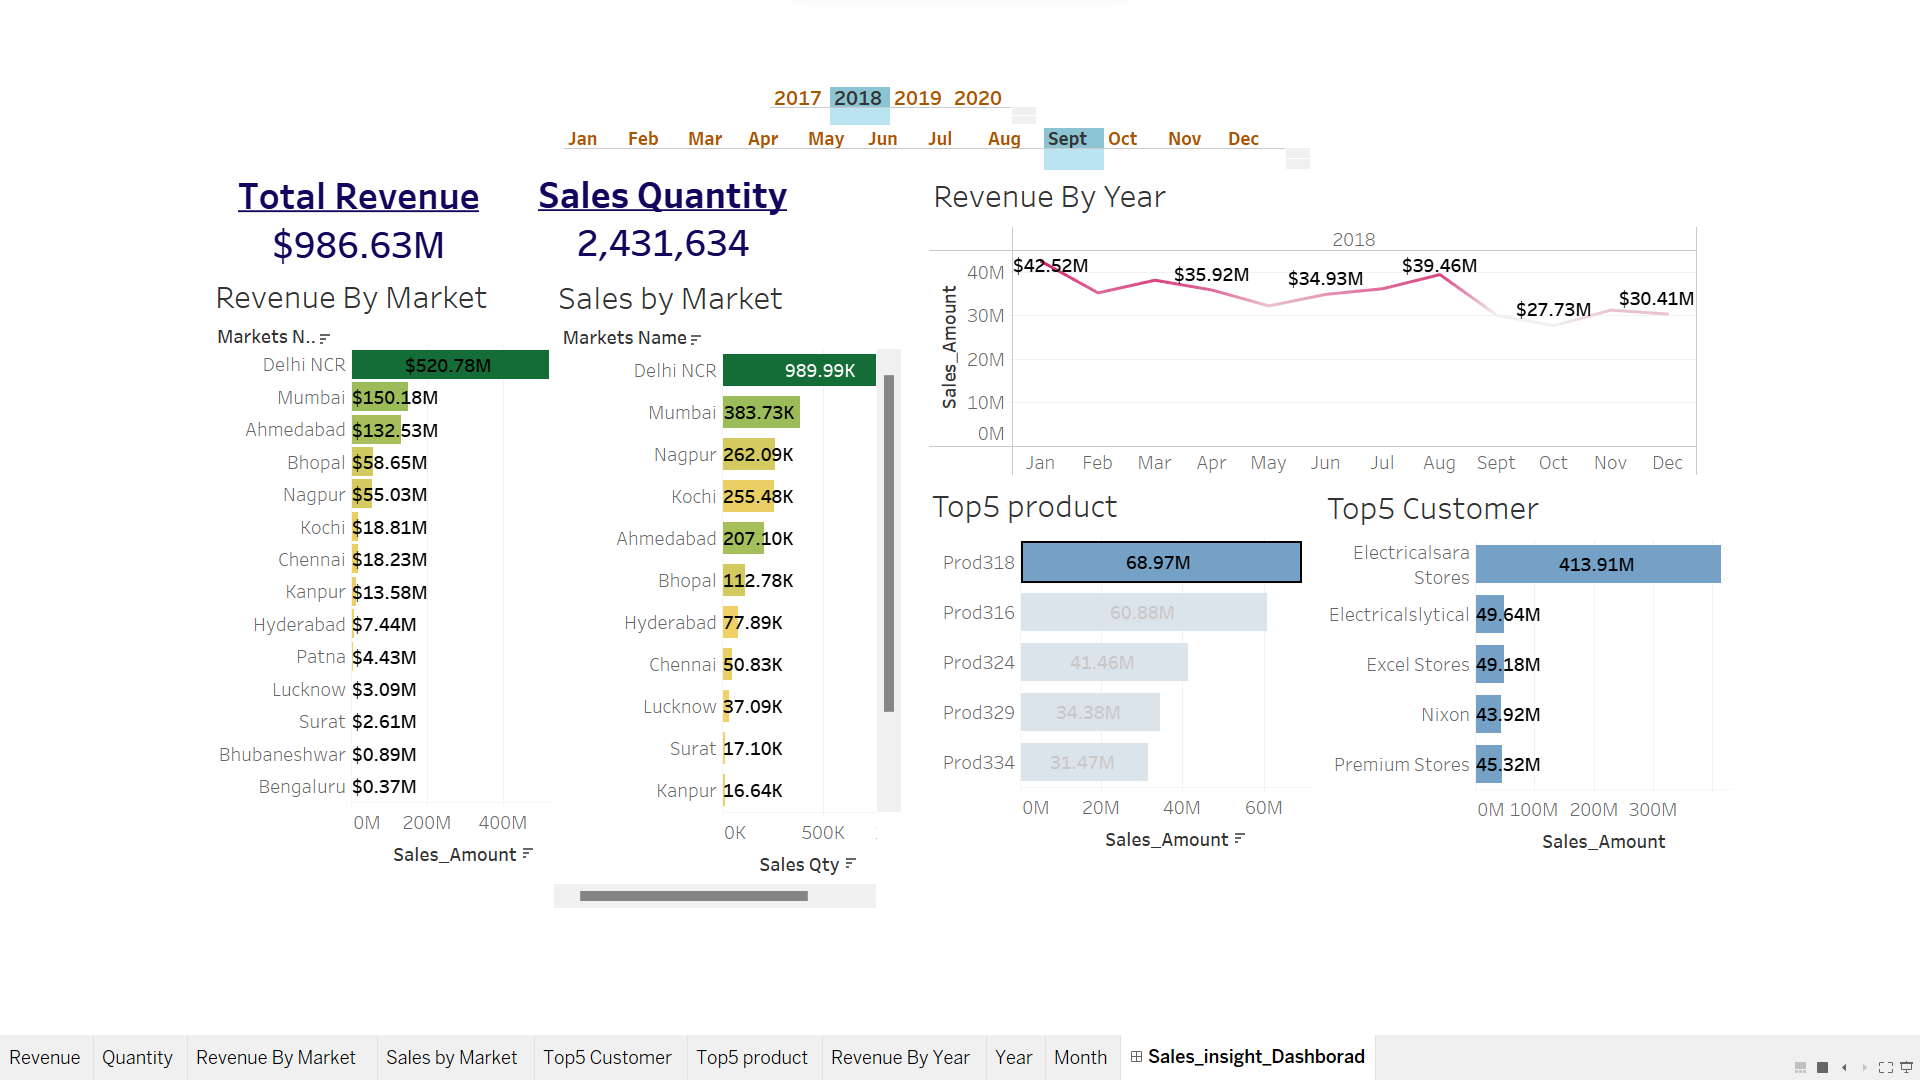

What the dashboard file says about the page in this screenshot:
{"tool":"tableau","page":{"name":"Sales_insight_Dashborad","canvas":[1500,900],"ordinal":0},"visuals":[{"type":"worksheet","title":"Year","mark":"Automatic","cols":["cy_date"],"box":[560,20,527,38]},{"type":"worksheet","title":"Month","mark":"Automatic","cols":["cy_date"],"box":[354,61,762,42]},{"type":"worksheet","title":"Quantity","mark":"Automatic","box":[323,101,272,99]},{"type":"worksheet","title":"Revenue","mark":"Automatic","box":[19,102,270,103]},{"type":"worksheet","title":"Revenue By Year","mark":"Automatic","rows":["Calculation_581527367364583425"],"cols":["cy_date","cy_date"],"box":[719,103,768,306]},{"type":"worksheet","title":"Revenue By Market ","mark":"Bar","rows":["markets_name"],"cols":["Calculation_581527367364583425"],"box":[1,204,348,602]},{"type":"worksheet","title":"Sales by Market","mark":"Automatic","rows":["markets_name"],"cols":["sales_qty"],"box":[344,205,347,636]},{"type":"worksheet","title":"Top5 product","mark":"Automatic","rows":["product_code"],"cols":["Calculation_581527367364583425"],"box":[718,413,386,412]}]}

Visuals, with their boxes on the page's 1500x900 design canvas (x1, y1, x2, y2). These are canvas units, not pixel positions in the 1920x1080 screenshot, which may show the page scaled, cropped or inside an application window:
"Year" worksheet: [560, 20, 1087, 58]
"Month" worksheet: [354, 61, 1116, 103]
"Quantity" worksheet: [323, 101, 595, 200]
"Revenue" worksheet: [19, 102, 289, 205]
"Revenue By Year" worksheet: [719, 103, 1487, 409]
"Revenue By Market " worksheet (Bar marks): [1, 204, 349, 806]
"Sales by Market" worksheet: [344, 205, 691, 841]
"Top5 product" worksheet: [718, 413, 1104, 825]
